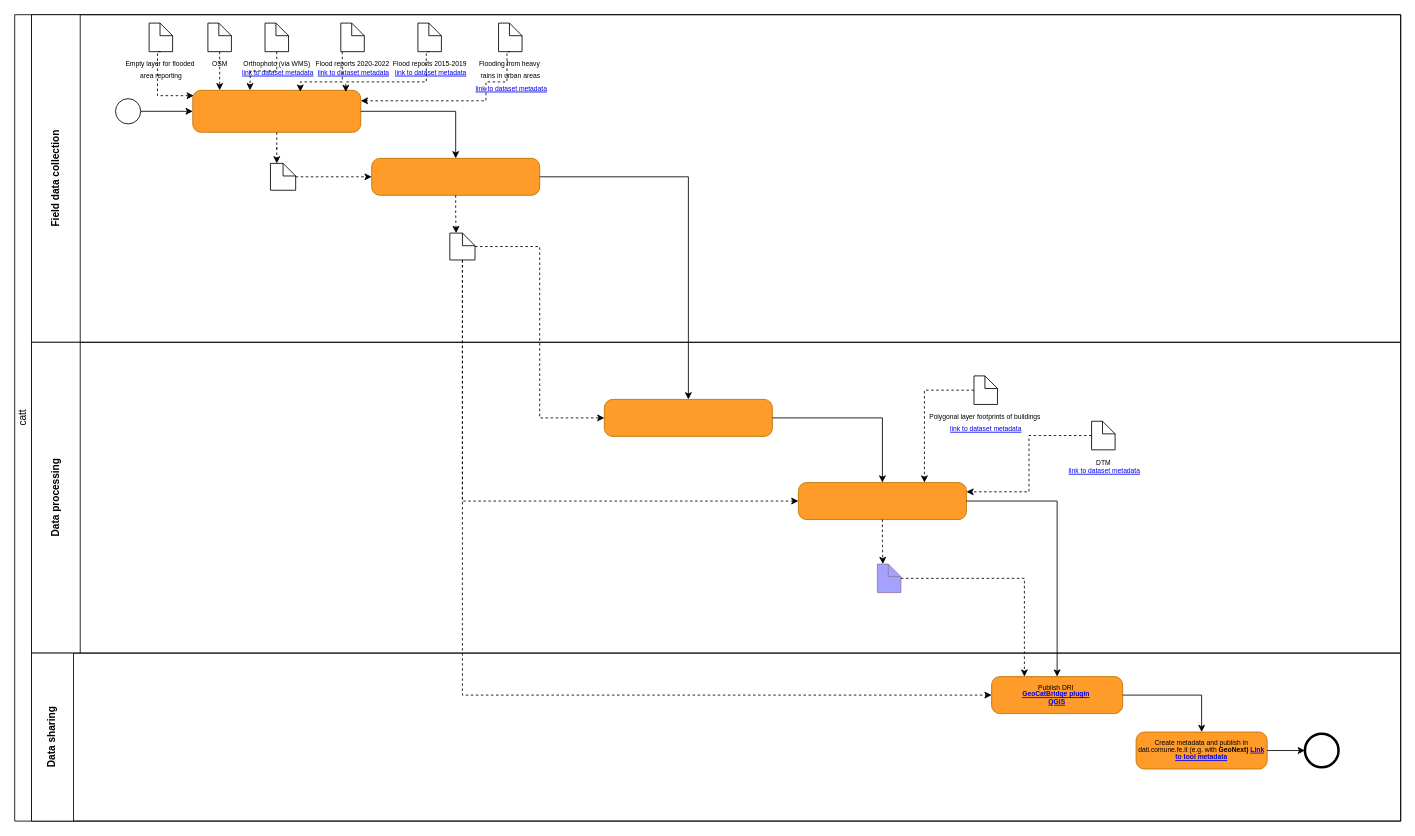
Some shapes in this 1415 by 836 pixel diagram are drawn without their labels. The centre of each missing label's shape, as x and y in pixels:
Citizen Science Ferrara flooded area Python script Link to tool metadata: point 882,501
Draw (simplified) flooded areas using Qfield Link to tools metadata: point 276,110
Mapping of area subject to flooding link to dataset metadata: point 889,578
Merged flooded areas reported link to dataset metadata: point 462,246
Publish simplified flooded areas in QField Cloud Link to tools metadata: point 455,176
Simplified flooded areas reported link to dataset metadata: point 283,176
Synchronise QGIS project QGIS Link to tools metadata: point 688,417
